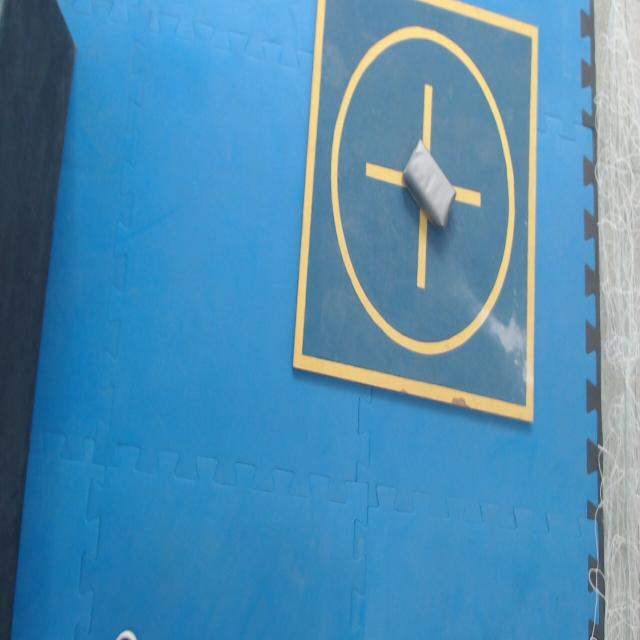esquerda: (404, 140, 456, 227)
